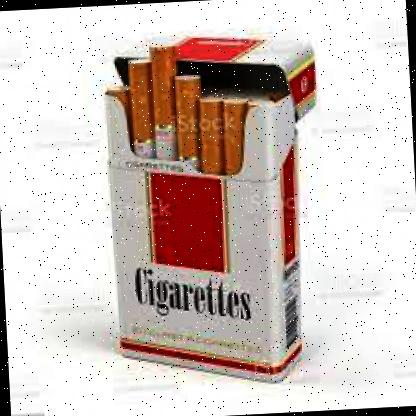bungkus rokok: (87, 18, 335, 370)
